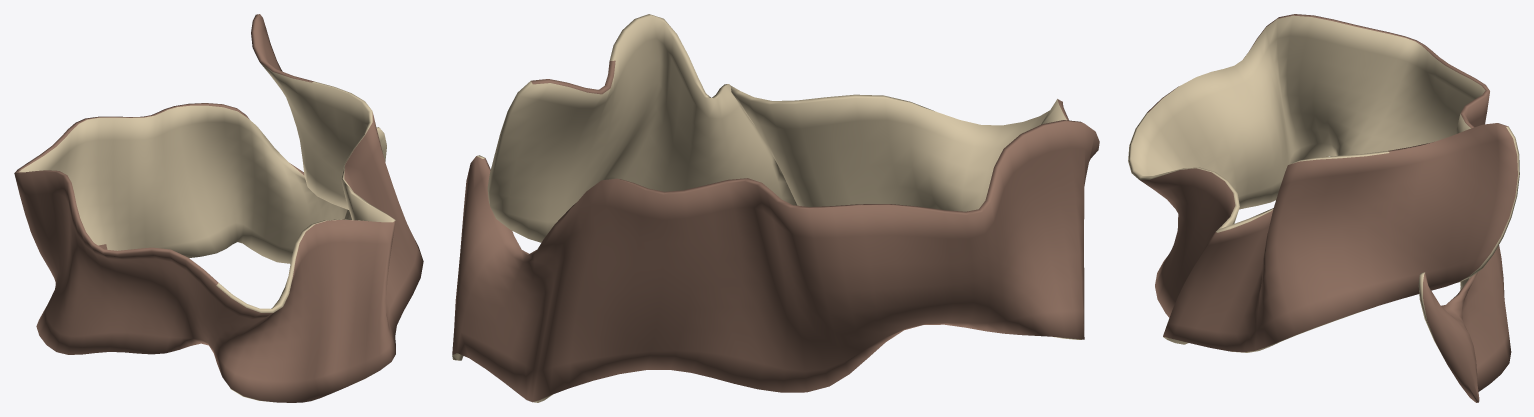
The model's file is cascaraPapa.002.fbx.
The picture shows the model from 3 angles, left to right: view 1: azimuth 30°, elevation 25°; view 2: azimuth 150°, elevation 25°; view 3: azimuth 270°, elevation 25°; orthographic projection. The views are drawn at different scales.
Parts seen in each view (by area): view 1: cascaraPapa.002; view 2: cascaraPapa.002; view 3: cascaraPapa.002.
Part boxes in pixels (x1=…): cascaraPapa.002: x1=14, y1=14, x2=423, y2=402; cascaraPapa.002: x1=452, y1=14, x2=1099, y2=402; cascaraPapa.002: x1=1128, y1=14, x2=1519, y2=402.
Bounding box in the file's own units: 102 × 60.97 × 84.11.
